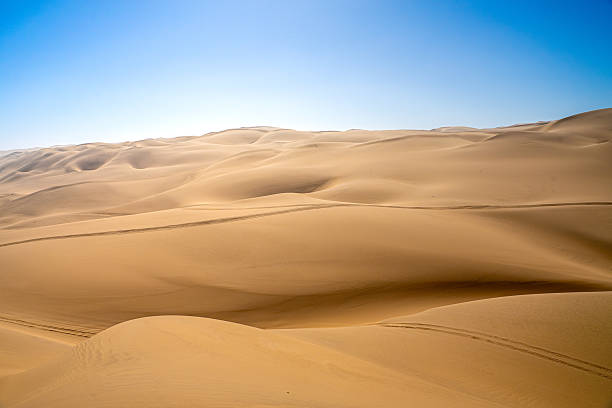vehicle_track: (378, 322, 611, 379)
